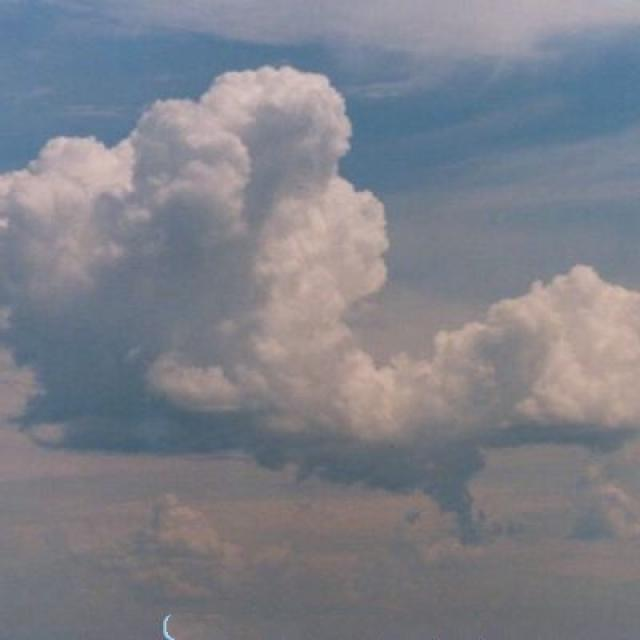Cs: (4, 67, 640, 487)
